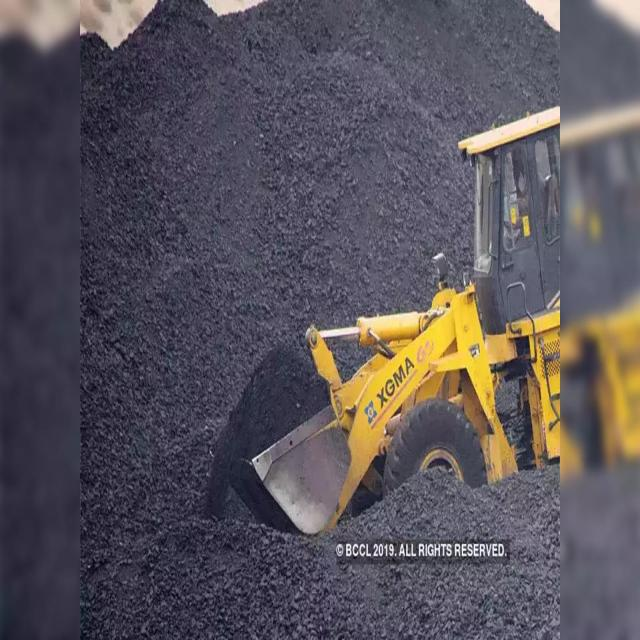buldozerpayloadergrader: (282, 92, 576, 532)
